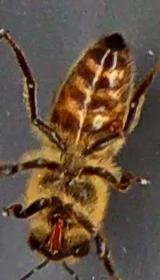varroa_mite: (102, 98, 128, 142)
